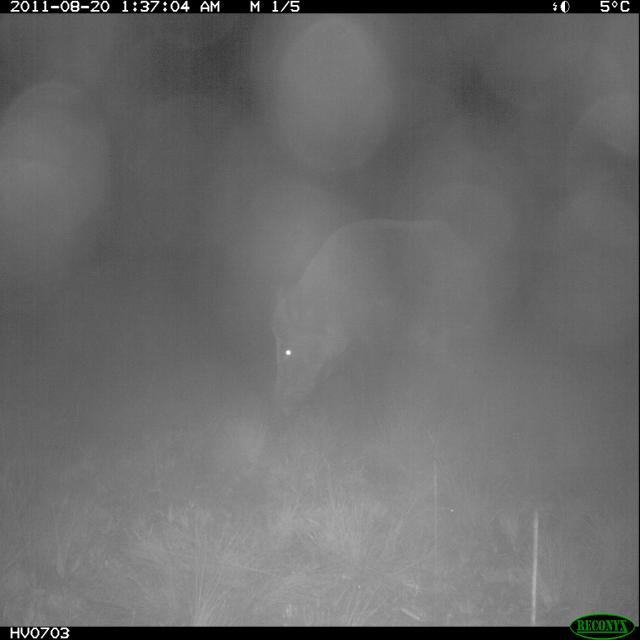boar: (242, 191, 526, 435)
